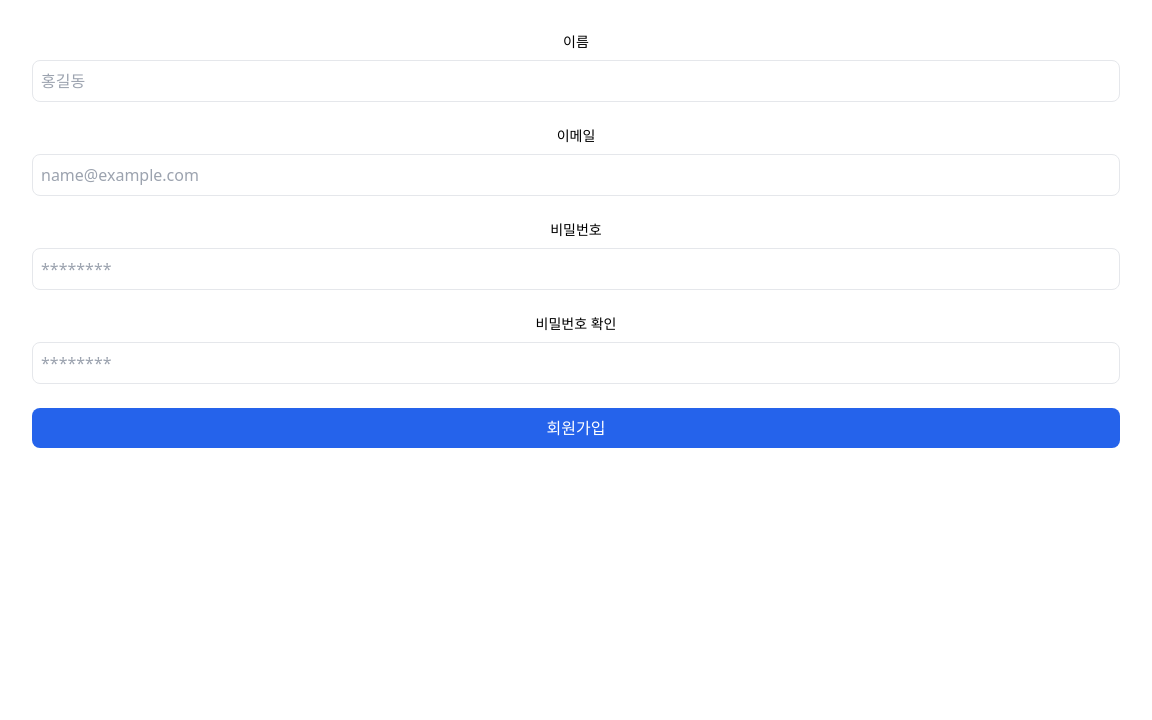
it: SignupForm › 기본 랜더링 및 유효성 검사 › 필수 필드가 비어있을 때 에러 메세지를 표시해야 함
Click the button with test id "submit-button" at (576, 428), box [32, 408, 1120, 448]
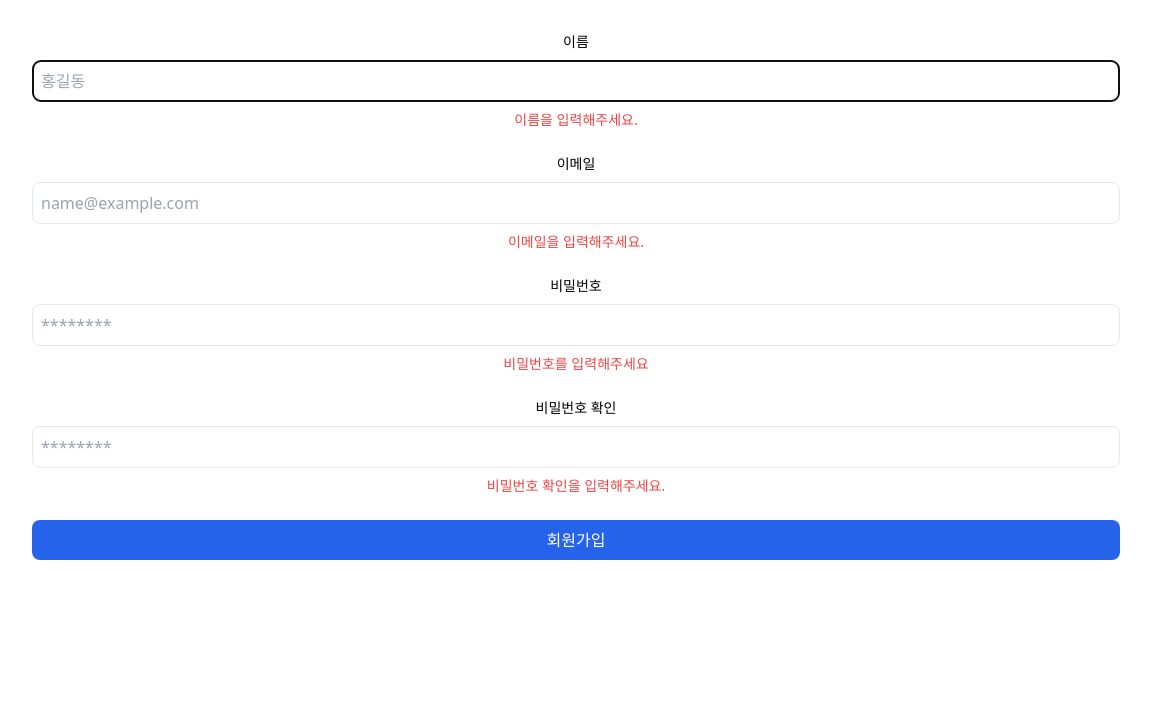
Expected: the text with test id "name-error" shows "이름을 입력해주세요", [514, 110, 638, 129]
Expected: the text with test id "email-error" shows "이메일을 입력해주세요", [508, 232, 644, 251]
Expected: the text with test id "password-error" reads "비밀번호를 입력해주세요", [503, 354, 649, 373]
